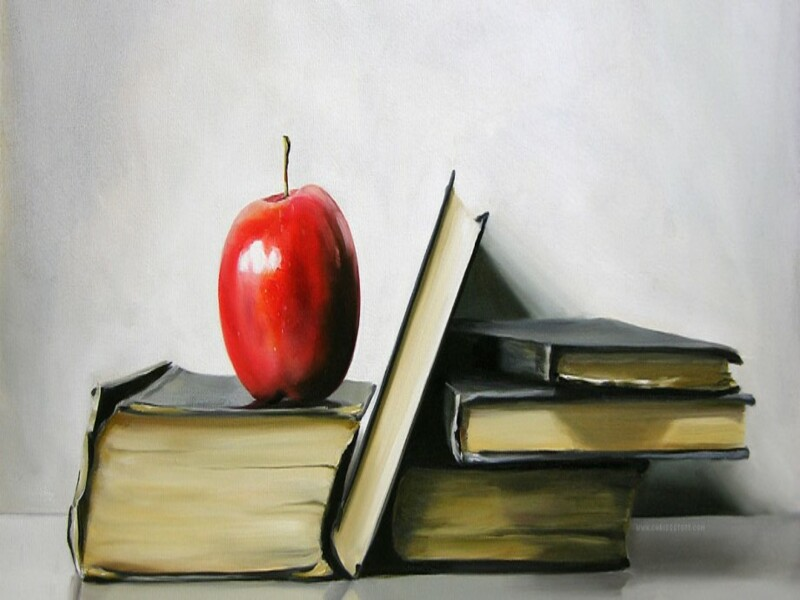apple: (217, 175, 357, 405)
